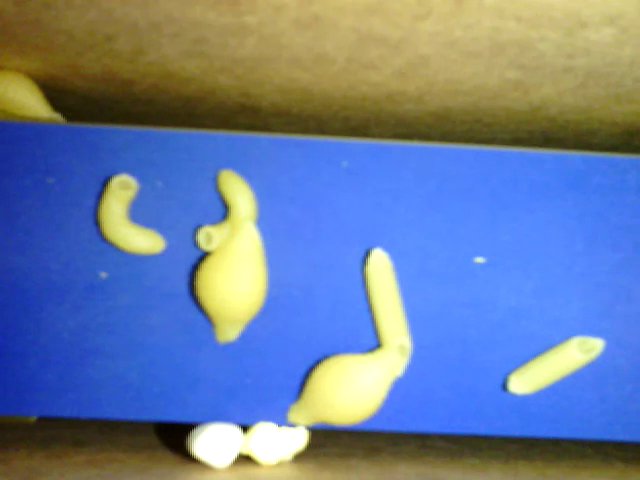elbow: (195, 162, 263, 255), (97, 177, 164, 253)
penne: (362, 249, 418, 370), (500, 333, 604, 398)
shell: (195, 218, 269, 349), (287, 344, 401, 428), (1, 71, 72, 129)
